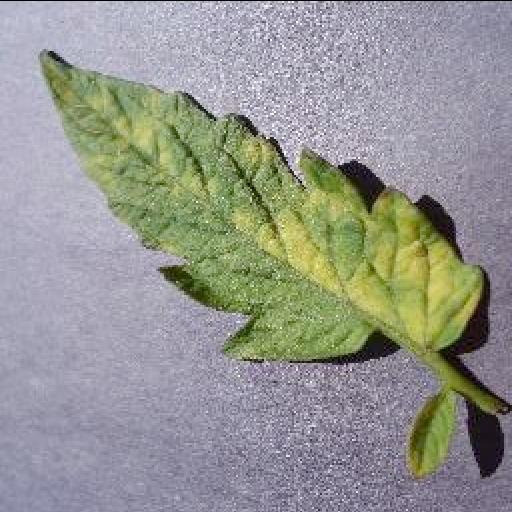disease_tomato: (37, 46, 483, 364)
